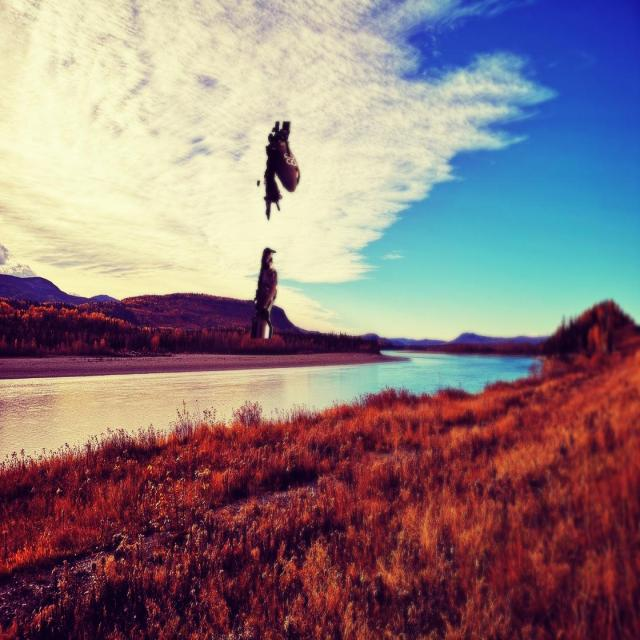airplane: (263, 120, 301, 222), (250, 246, 278, 339)
